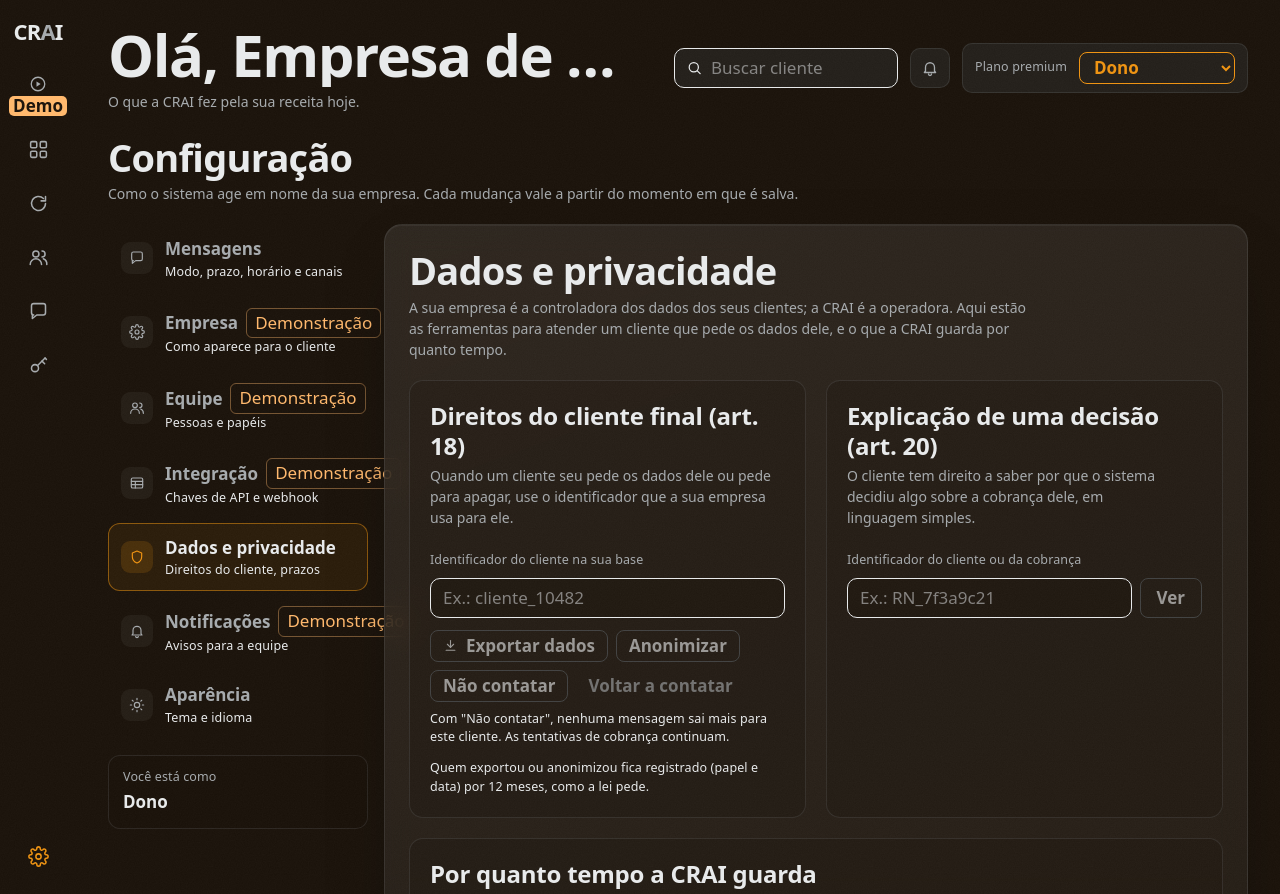
it: dados e privacidade em modo real › anonimizar pede confirmação, manda só o identificador e diz o que foi apagado
Expected: the heading "Por quanto tempo a CRAI guarda" is shown, [430, 856, 817, 890]
Type "c-1" into the field with placeholder "Ex.: cliente_10482".
click(608, 598); type("c-1")  # box [430, 578, 785, 618]
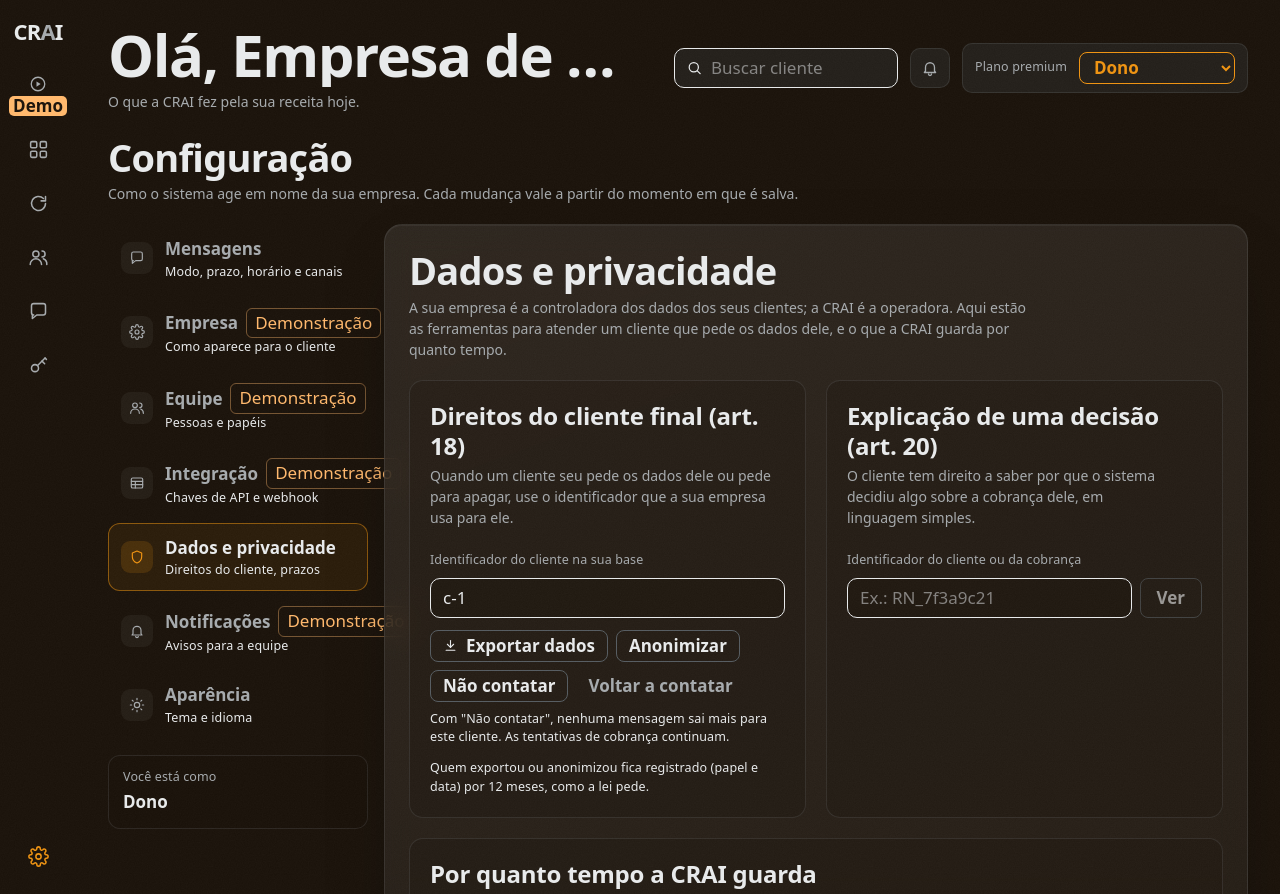
Click the button "Anonimizar".
click(678, 646)  # box [616, 630, 740, 662]
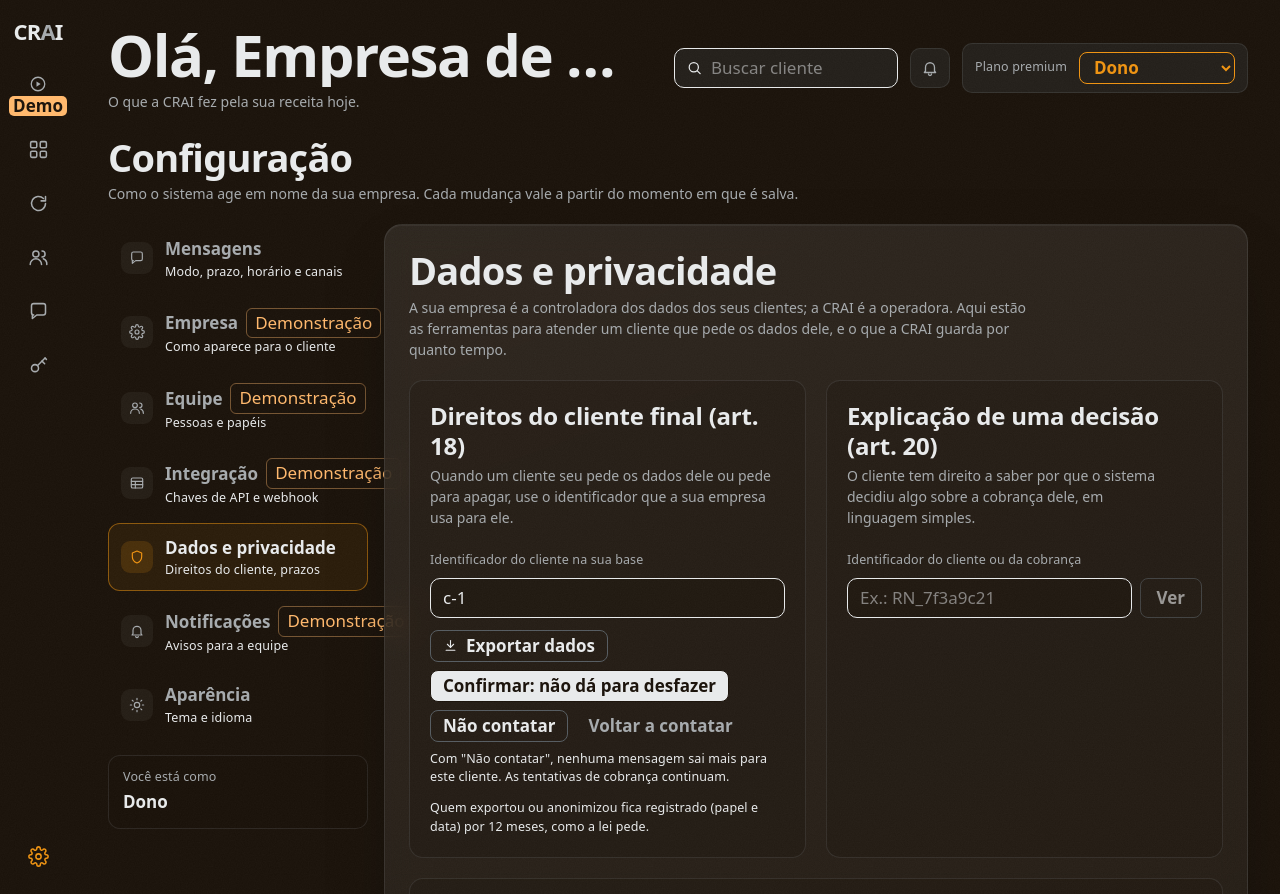
Click the button "Confirmar: não dá para desfazer".
click(580, 686)  # box [430, 670, 729, 702]
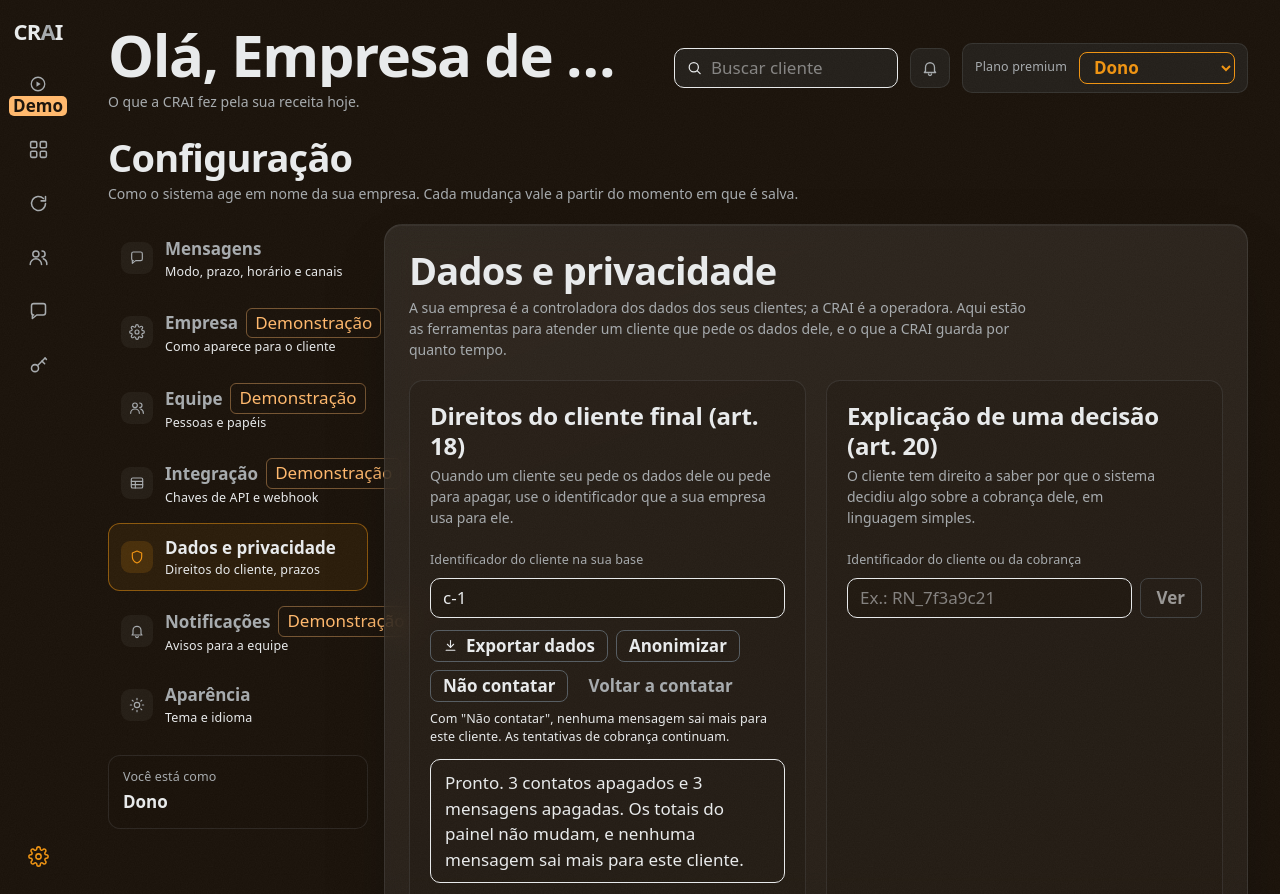
Now the text "Pronto. 3 contatos apagados e 3 mensagens apagadas. Os totais do painel não mudam, e nenhuma mensagem sai mais para este" is shown, box [445, 771, 744, 870]
